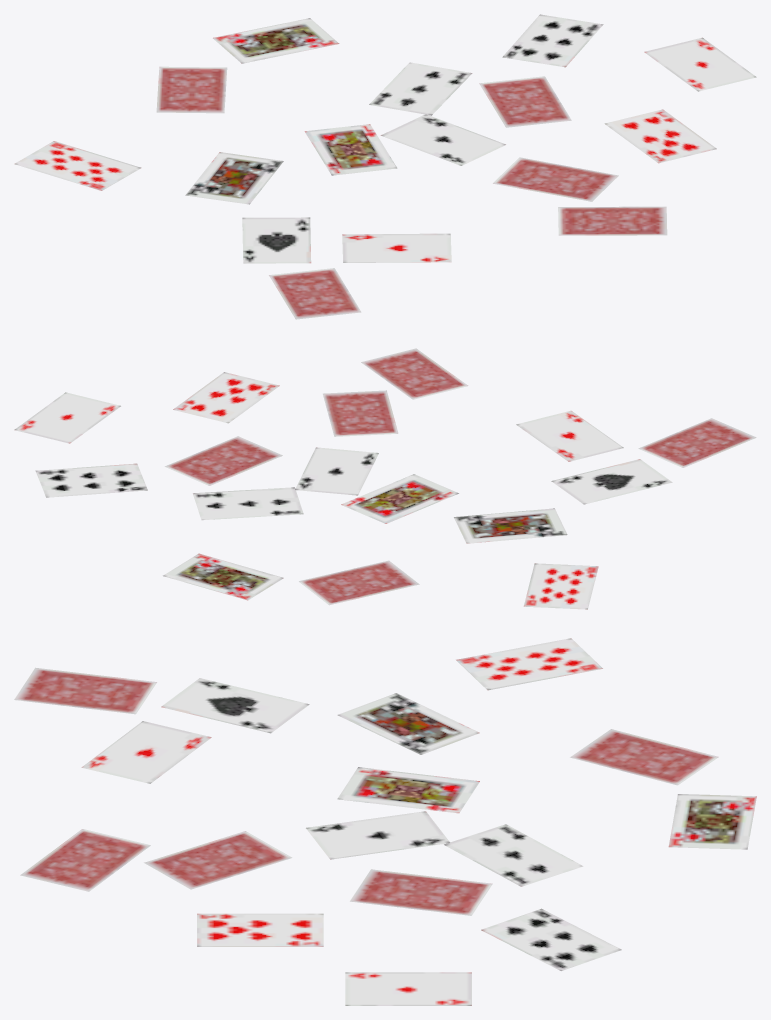
File: scatteredcards1.fbx
3 views of the same model, one above another, from view 1: azimuth 30°, elevation 25°; view 2: azimuth 150°, elevation 25°; view 3: azimuth 270°, elevation 25° (orthographic). The views are drawn at different scales.
Parts seen in each view (by area): view 1: mesh_0; view 2: mesh_0; view 3: mesh_0.
Part boxes in pixels (x1,y1,x2,y2): mesh_0: (14, 14, 756, 319); mesh_0: (14, 348, 756, 609); mesh_0: (14, 638, 756, 1005).
Size of the model in its own units: 96.38 by 7.63e-06 by 82.31.
Materials: 1 (1 with a texture image).
